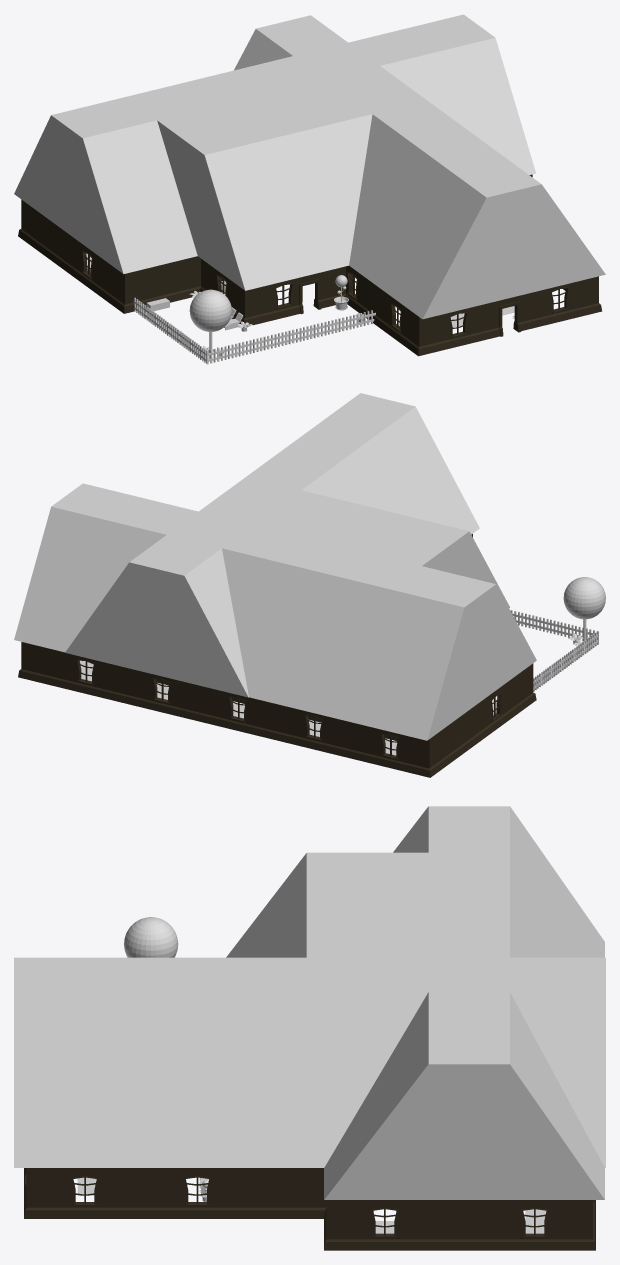
File: Haus02.fbx
3 renders of one model, top to bottom at view 1: azimuth 30°, elevation 25°; view 2: azimuth 150°, elevation 25°; view 3: azimuth 270°, elevation 25°, orthographic. The views are drawn at different scales.
Parts seen in each view (by area): view 1: Cube.034, Haus, Cube.022, Sphere, Cube.023; view 2: Cube.034, Haus, Sphere, Cube.023, Cube.022, Teppich.003; view 3: Cube.034, Haus, Sphere, Teppich.003.
Boxes of the visible parts, box(x1,y1,x2,y2) form: Cube.034: box(14, 14, 605, 319); Haus: box(18, 174, 602, 356); Cube.022: box(207, 310, 372, 364); Sphere: box(189, 289, 231, 331); Cube.023: box(134, 297, 208, 364); Cube.034: box(14, 393, 536, 740); Haus: box(18, 534, 536, 777); Sphere: box(563, 577, 605, 619); Cube.023: box(533, 631, 598, 691); Cube.022: box(510, 610, 597, 644); Teppich.003: box(80, 660, 397, 755); Cube.034: box(14, 806, 605, 1199); Haus: box(24, 1168, 595, 1250); Sphere: box(124, 917, 178, 957); Teppich.003: box(375, 1209, 546, 1233).
Size of what is drawn, in the model's own units: 6518 by 2200 by 6318.
